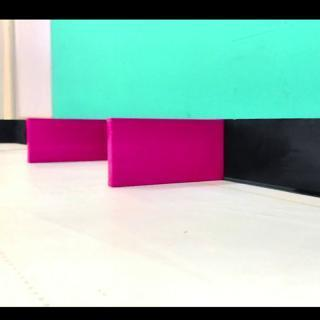xparking: (112, 120, 223, 180), (27, 118, 107, 162)
